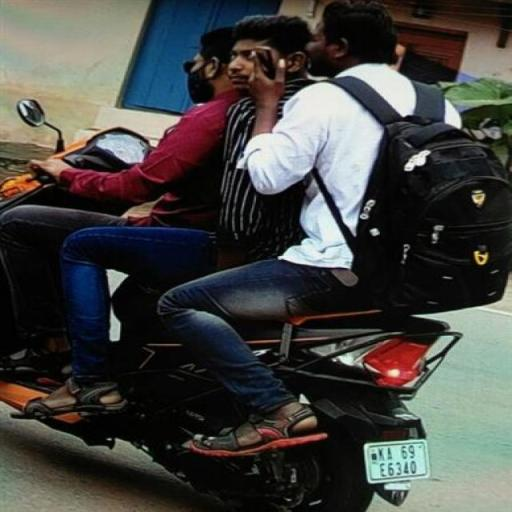tripple riding: (30, 12, 506, 259)
